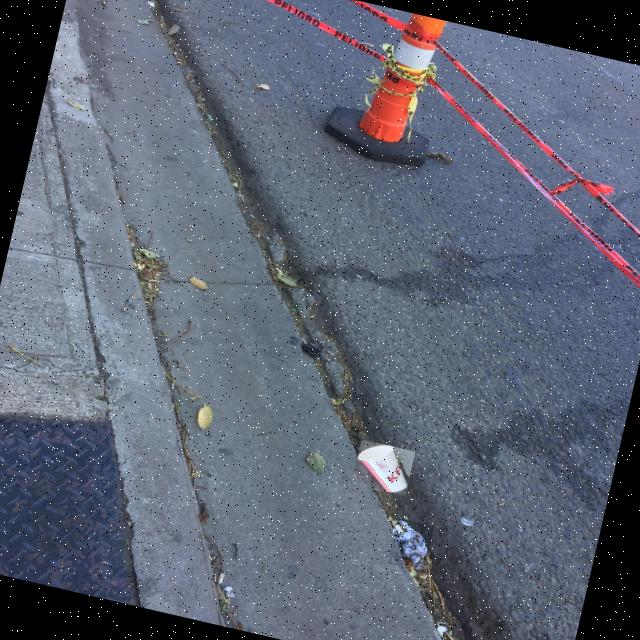Cigarette: (394, 525, 403, 535)
Metal bottle cap: (461, 517, 472, 526)
Normal paper: (396, 519, 428, 570)
Paper cup: (357, 445, 407, 492)
